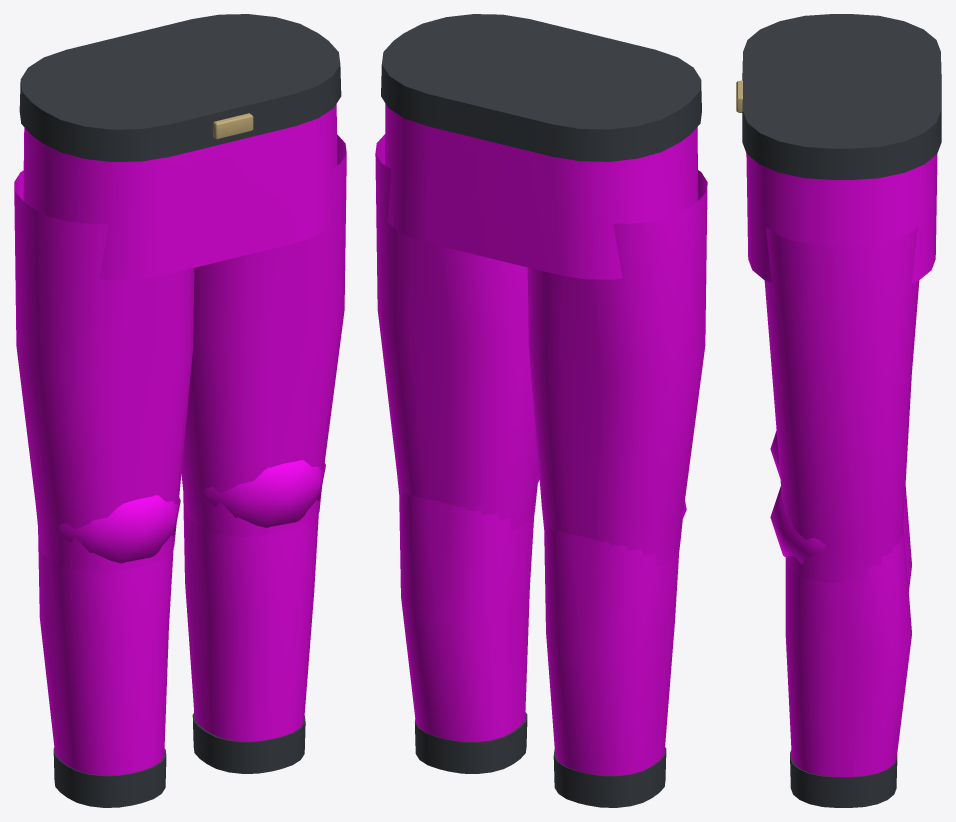
File: porte_pantalon.glb
3 renders of one model, left to right at view 1: azimuth 30°, elevation 25°; view 2: azimuth 150°, elevation 25°; view 3: azimuth 270°, elevation 25°, orthographic. The views are drawn at different scales.
Parts seen in each view (by area): view 1: cuisse_d__pantalon_teinte.002, cuisse_g__pantalon_teinte.002, bassin__pantalon_teinte_sombre.002, bassin__pantalon_teinte.002, jambe_g__pantalon_teinte.002, jambe_d__pantalon_teinte.002, jambe_g__pantalon_teinte_sombre.002, jambe_d__pantalon_teinte_sombre.002, bassin__pantalon_boucle.002; view 2: cuisse_d__pantalon_teinte.002, cuisse_g__pantalon_teinte.002, bassin__pantalon_teinte_sombre.002, bassin__pantalon_teinte.002, jambe_g__pantalon_teinte.002, jambe_d__pantalon_teinte.002, jambe_g__pantalon_teinte_sombre.002, jambe_d__pantalon_teinte_sombre.002; view 3: cuisse_g__pantalon_teinte.002, bassin__pantalon_teinte_sombre.002, jambe_g__pantalon_teinte.002, bassin__pantalon_teinte.002, jambe_g__pantalon_teinte_sombre.002, jambe_d__pantalon_teinte.002.
Boxes of the visible parts, box(x1,y1,x2,y2) form: cuisse_d__pantalon_teinte.002: box(14, 170, 194, 572); cuisse_g__pantalon_teinte.002: box(181, 134, 346, 536); bassin__pantalon_teinte_sombre.002: box(19, 14, 341, 161); bassin__pantalon_teinte.002: box(23, 104, 337, 280); jambe_g__pantalon_teinte.002: box(183, 460, 325, 741); jambe_d__pantalon_teinte.002: box(38, 495, 180, 775); jambe_g__pantalon_teinte_sombre.002: box(192, 712, 305, 773); jambe_d__pantalon_teinte_sombre.002: box(53, 748, 166, 807); bassin__pantalon_boucle.002: box(212, 113, 253, 139); cuisse_d__pantalon_teinte.002: box(527, 170, 707, 566); cuisse_g__pantalon_teinte.002: box(375, 134, 538, 531); bassin__pantalon_teinte_sombre.002: box(381, 14, 701, 161); bassin__pantalon_teinte.002: box(385, 103, 698, 279); jambe_g__pantalon_teinte.002: box(399, 472, 539, 741); jambe_d__pantalon_teinte.002: box(544, 501, 686, 775); jambe_g__pantalon_teinte_sombre.002: box(414, 712, 527, 773); jambe_d__pantalon_teinte_sombre.002: box(553, 747, 666, 807); cuisse_g__pantalon_teinte.002: box(764, 227, 919, 582); bassin__pantalon_teinte_sombre.002: box(742, 14, 941, 179); jambe_g__pantalon_teinte.002: box(770, 486, 911, 776); bassin__pantalon_teinte.002: box(746, 153, 937, 283); jambe_g__pantalon_teinte_sombre.002: box(790, 750, 897, 807); jambe_d__pantalon_teinte.002: box(770, 430, 911, 591).
Size of the model in its own units: 0.398 by 0.87 by 0.241.
